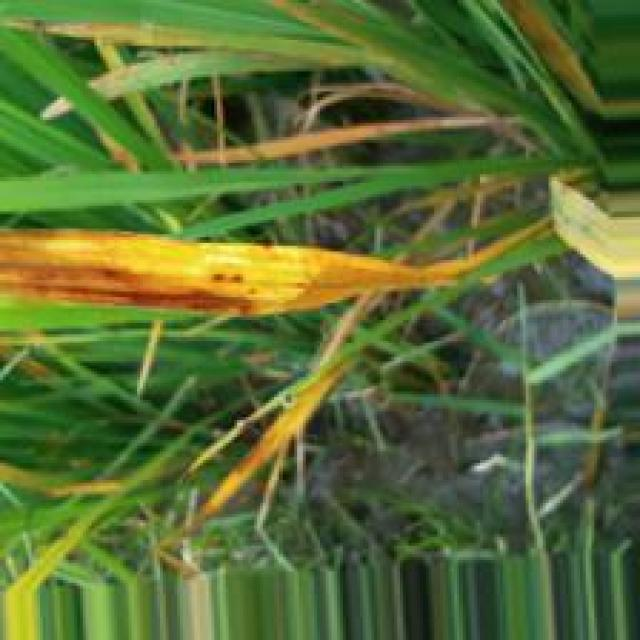Leaf_Scald: (0, 230, 264, 318), (266, 248, 445, 317), (205, 270, 248, 288)
